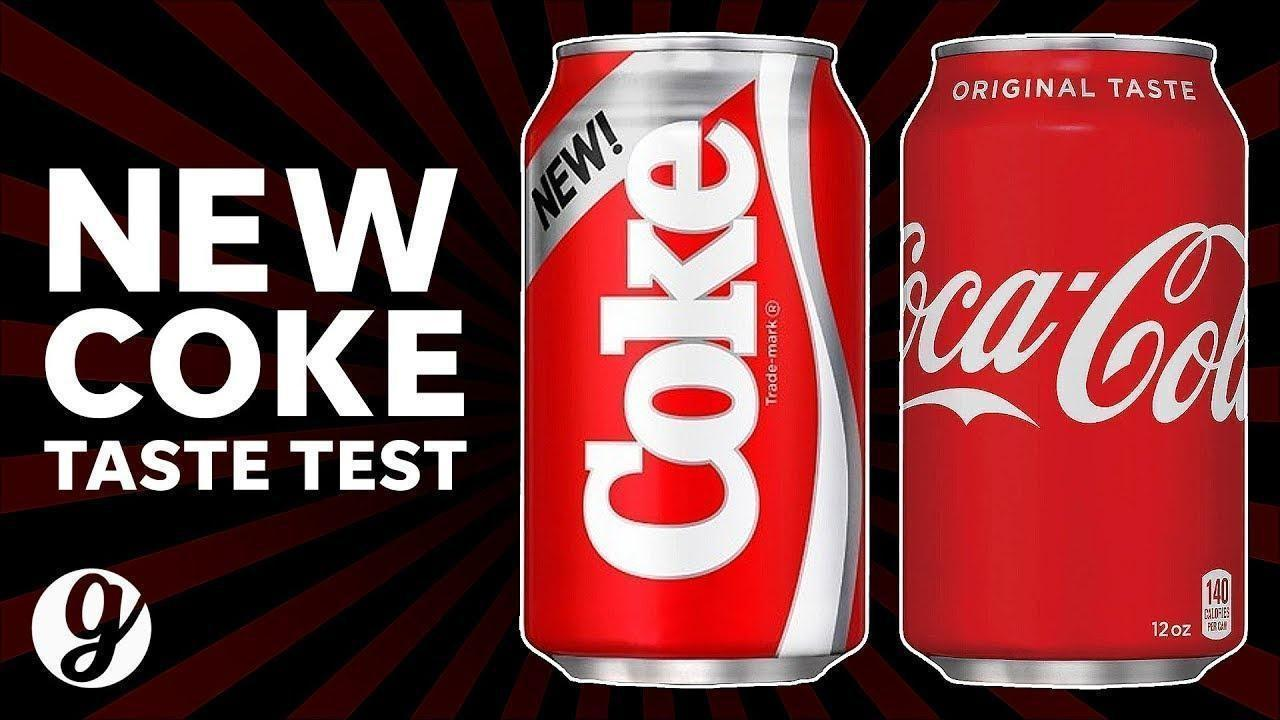tin can: (897, 28, 1251, 690), (519, 30, 872, 688)
